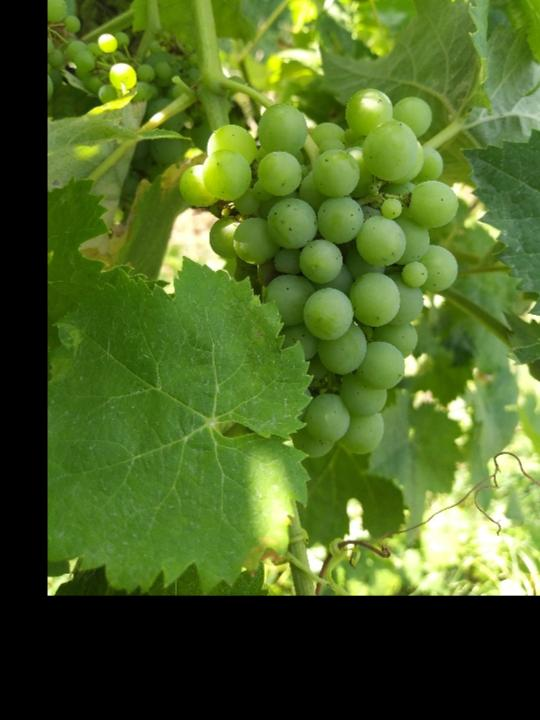grape: (179, 88, 461, 458)
